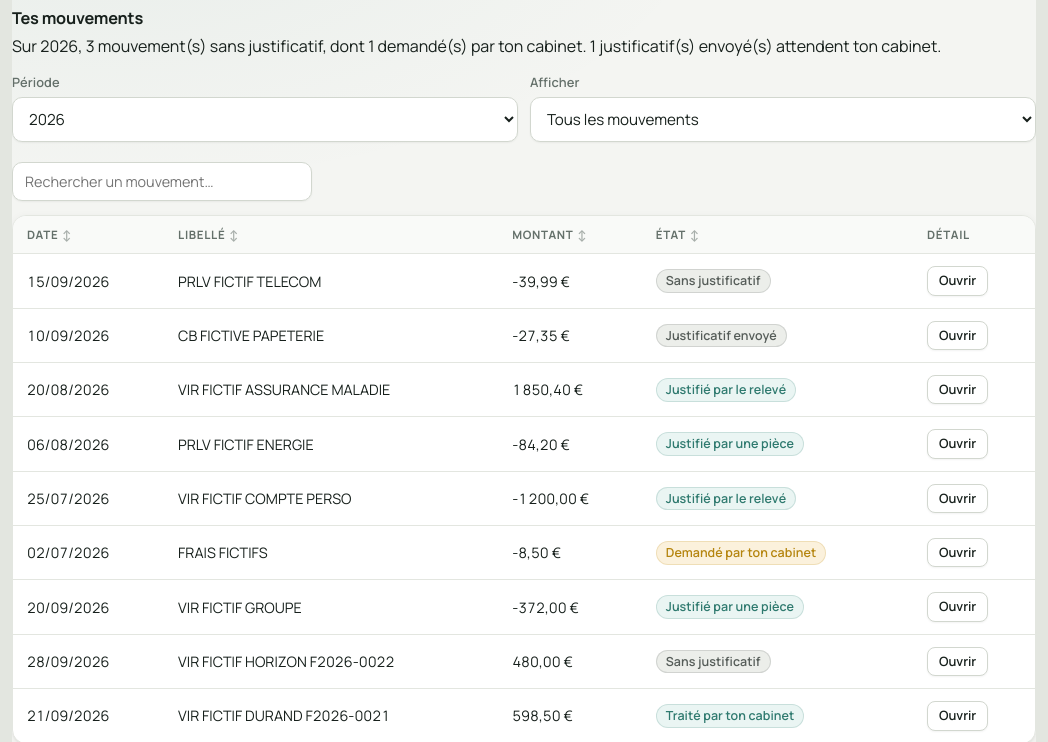
Test case: les encaissements de tes factures (étape VF5g) › « Banque » seul : rien de plus — le registre n’est pas lu, le classé est « Traité par ton cabinet » (VF5-Q3)
(page scrolled)
What coordinates should you click on to do the following:
click the button "Ouvrir" in the row of "VIR FICTIF HORIZON F2026-0022"
I would click on:
 (958, 661)
Its box is [927,647,988,676].
(page scrolled)
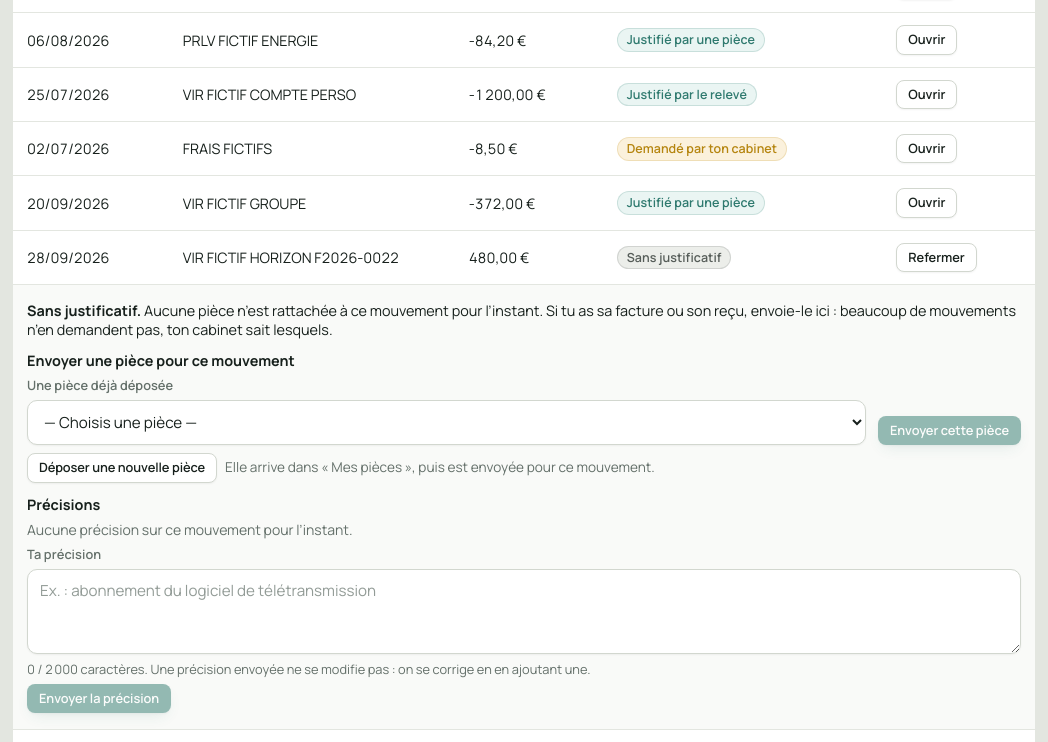
Expected: the text "Envoyer une pièce pour ce mouvement" is shown, [27,351,295,370]
